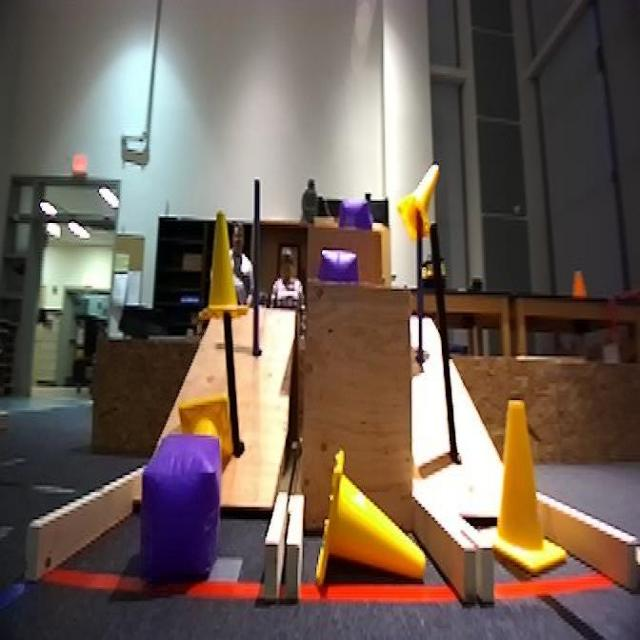frc_cone: (318, 448, 436, 577), (488, 390, 564, 582), (208, 223, 256, 328), (399, 156, 442, 242), (181, 395, 232, 453)
frc_cube: (134, 441, 221, 582), (334, 194, 371, 249), (319, 243, 357, 293)
